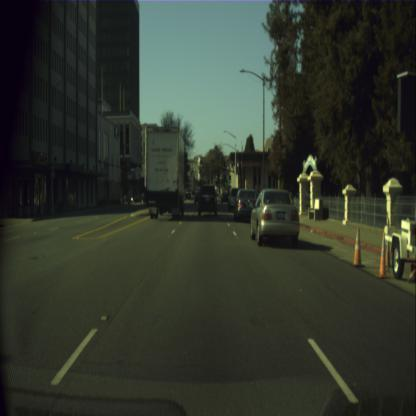Green: (223, 175, 226, 185), (228, 174, 230, 182), (200, 160, 202, 168)
Red: (190, 169, 192, 174)
Yellow: (186, 158, 188, 166)
